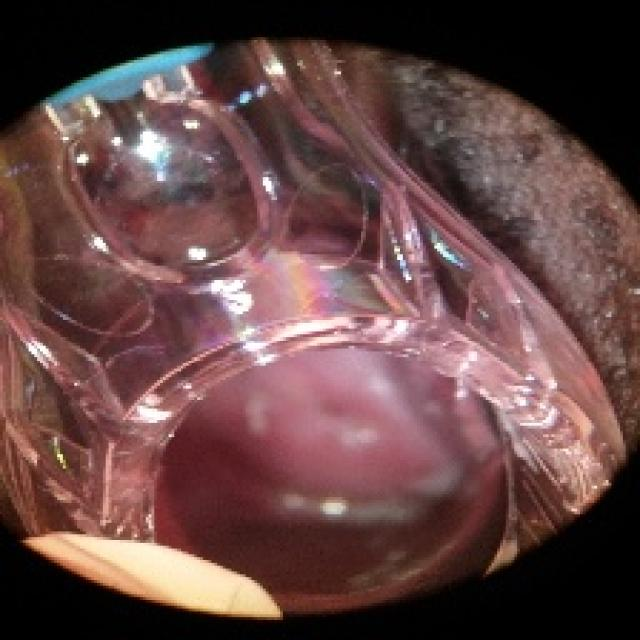type-2: (0, 60, 640, 590)
